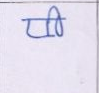i_matra: (49, 5, 64, 36)
